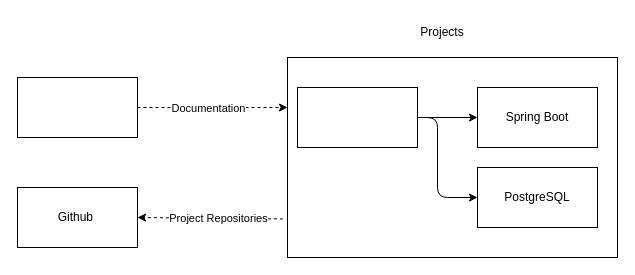
The diagram is 635 pixels wide and 275 high, and some of its shapes have lost their labels. Each missing label, with the centre of its shape:
Java Basics: (357,117)
Markdown basics: (77,107)
